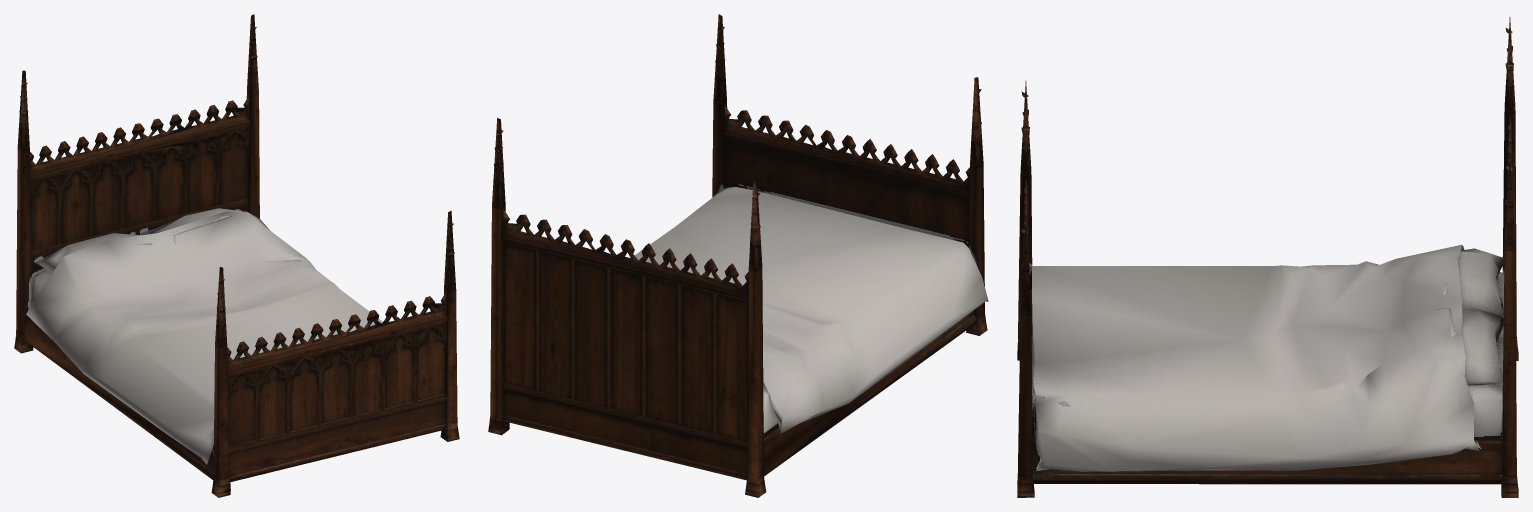
Rendered from bed.glb.
The picture shows the model from 3 angles, left to right: view 1: azimuth 30°, elevation 25°; view 2: azimuth 150°, elevation 25°; view 3: azimuth 270°, elevation 25°; orthographic projection. The views are drawn at different scales.
Visible parts, largest first — view 1: lo; view 2: lo; view 3: lo.
Boxes of the visible parts, x1=… form: lo: x1=14, y1=14, x2=459, y2=497; lo: x1=488, y1=14, x2=988, y2=497; lo: x1=1017, y1=17, x2=1518, y2=497.
Size of the model in its own units: 1.5 by 1.53 by 2.04.
Materials: 1 (1 with a texture image).
